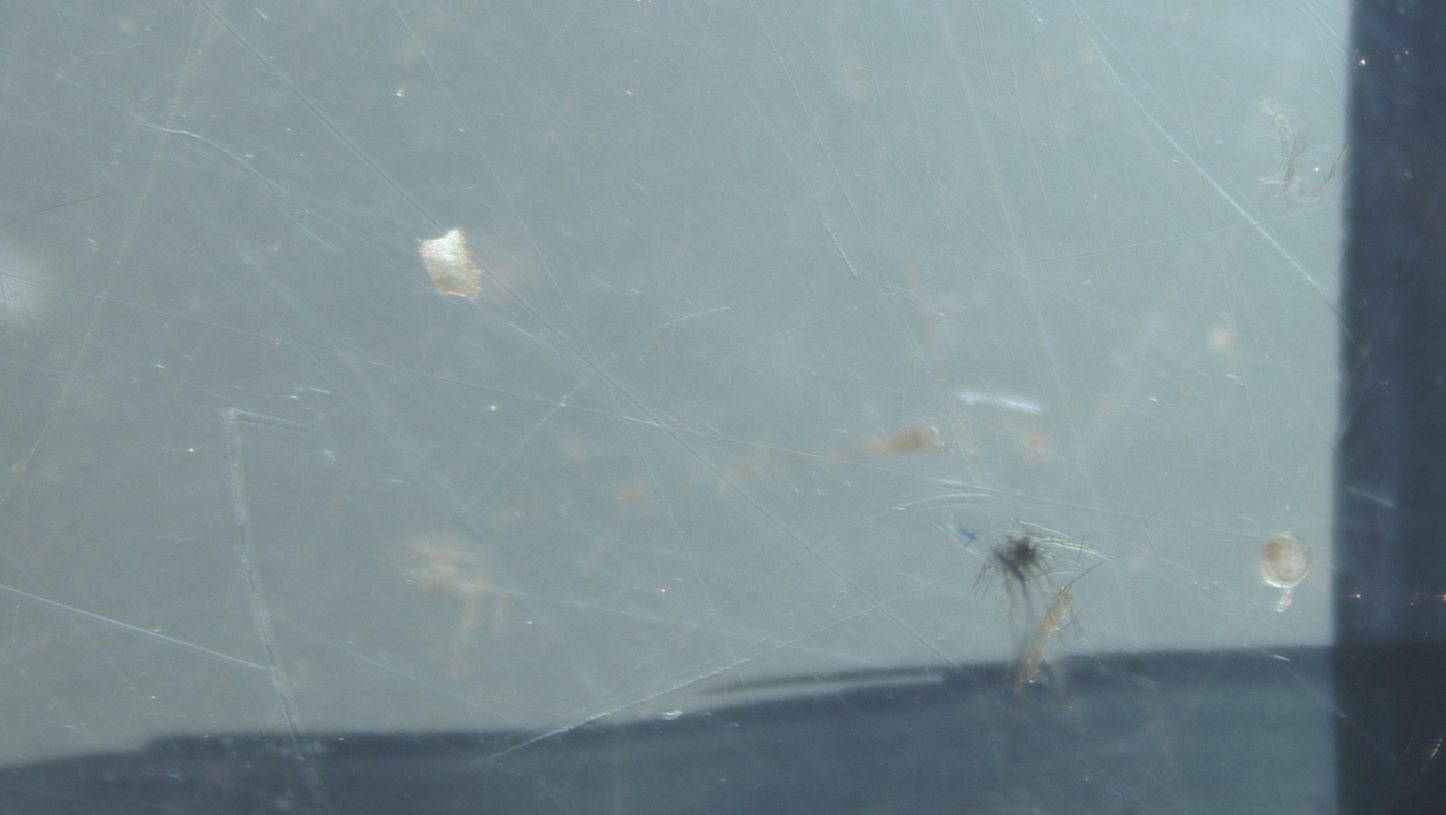live: (1259, 534, 1311, 590)
